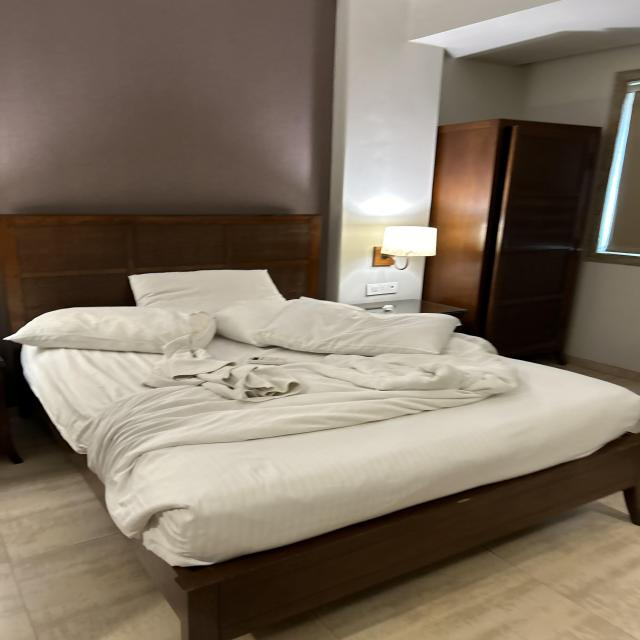mess: (23, 309, 640, 486)
